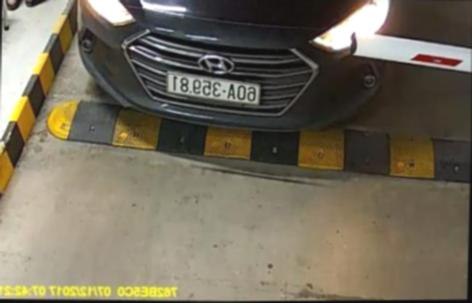License_Plate: (162, 69, 264, 106)
